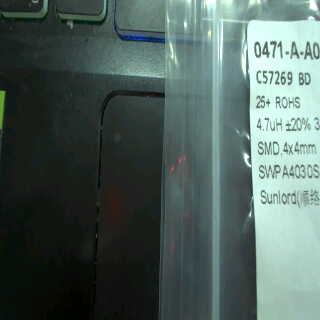4.7uH: (255, 114, 284, 136)
